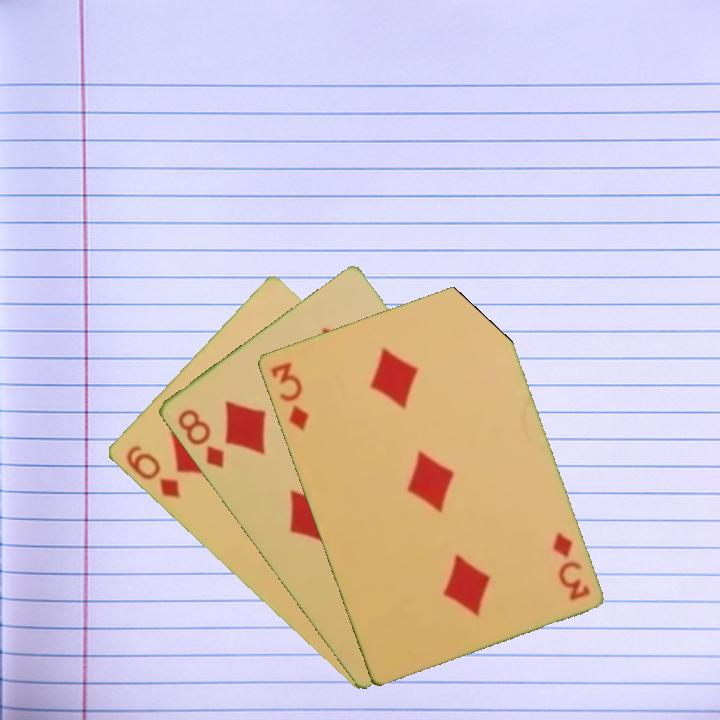3d: (266, 358, 311, 434), (548, 528, 593, 604)
6d: (121, 441, 183, 501)
8d: (173, 405, 227, 472)
